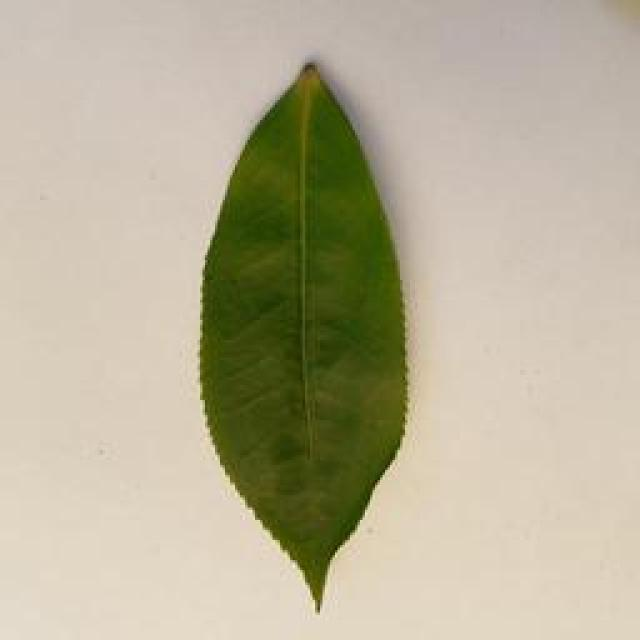Healthy: (193, 62, 421, 622)
